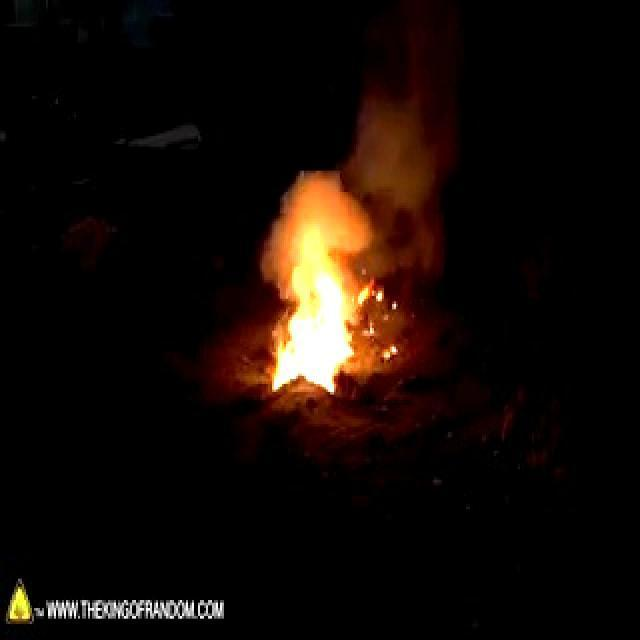Fire: (261, 258, 361, 396)
Smoke: (310, 68, 480, 258)
